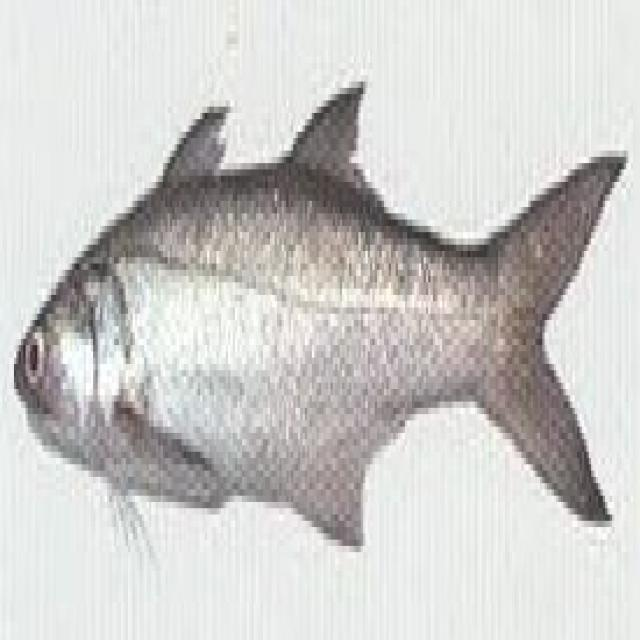Fourfinger-Threadfin: (11, 54, 634, 598)
